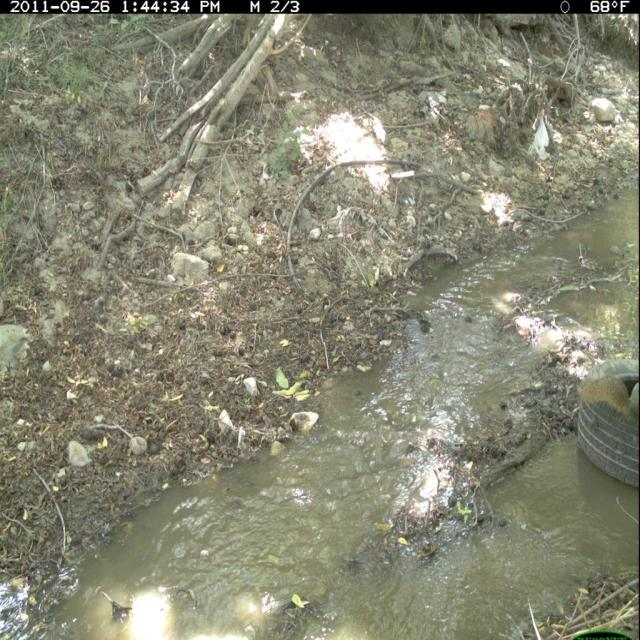squirrel: (576, 373, 640, 429)
